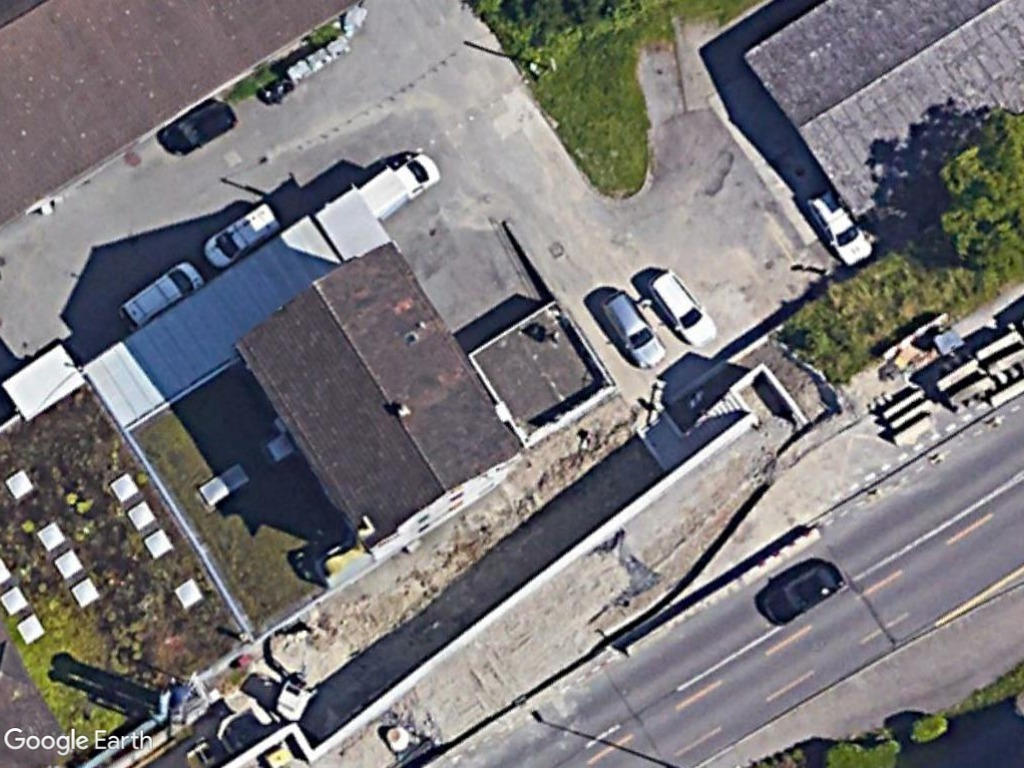car: (596, 289, 671, 375), (645, 268, 719, 352)
van: (119, 258, 201, 332), (201, 198, 281, 270)
